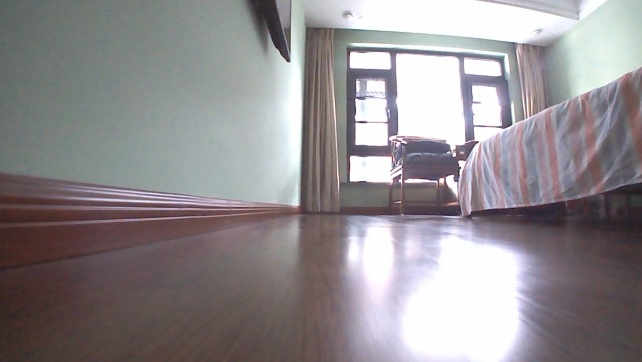bed1: (454, 62, 641, 221)
